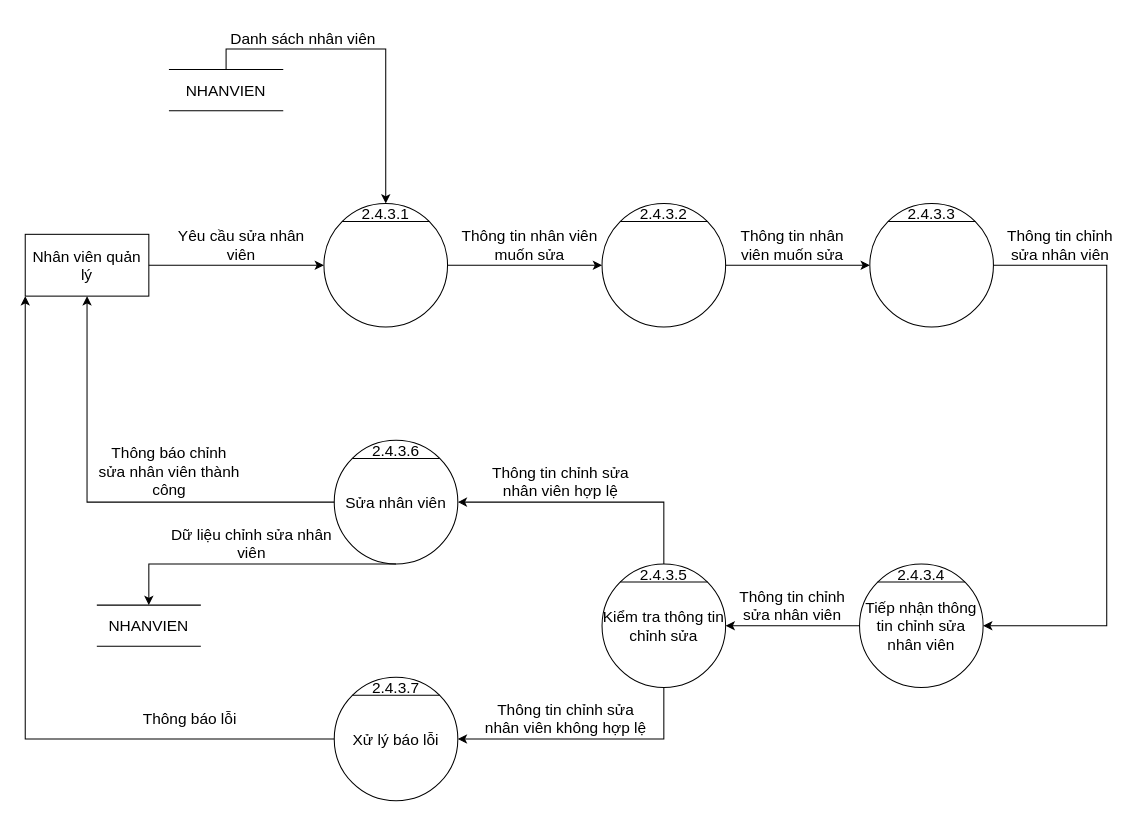
This 1145x819 diagram has some shape labels left out. Each missing label, with the box of its shape:
Chọn sản phẩm muốn sửa: (323, 202, 448, 327)
Hiển thị thông tin nhân viên muốn sửa: (601, 202, 726, 327)
Nhập thông tin chỉnh sửa: (869, 202, 993, 327)
